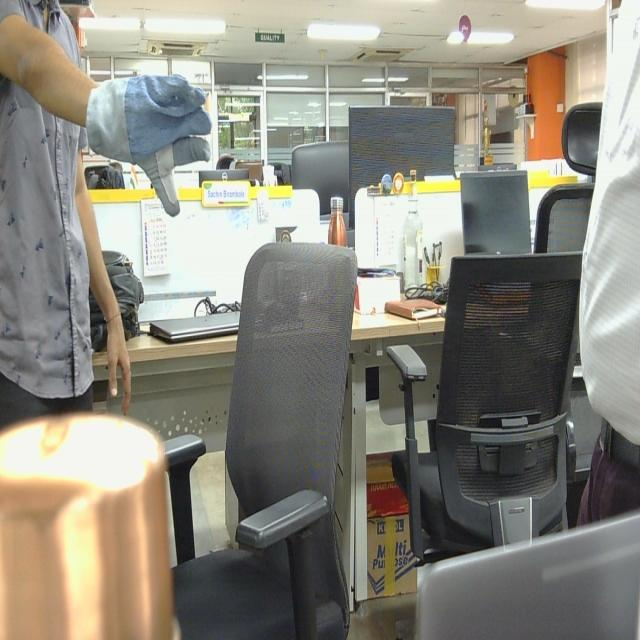Gloves-Detection: (88, 70, 210, 219)
